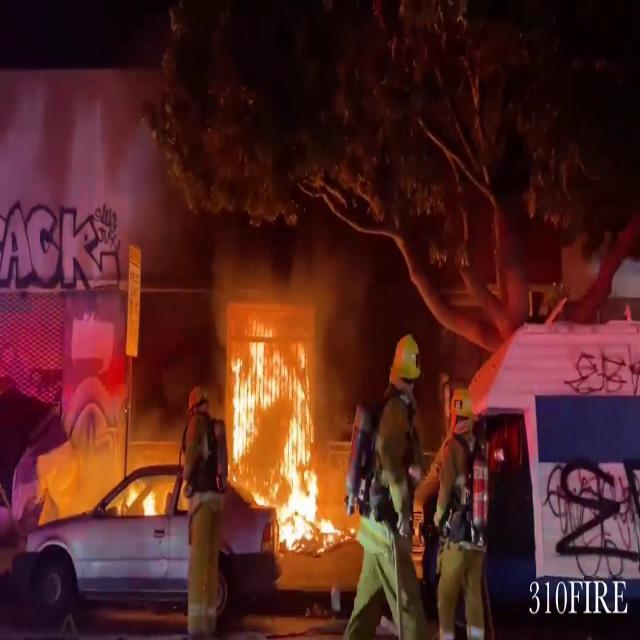Fire: (222, 314, 343, 551), (117, 467, 183, 520)
